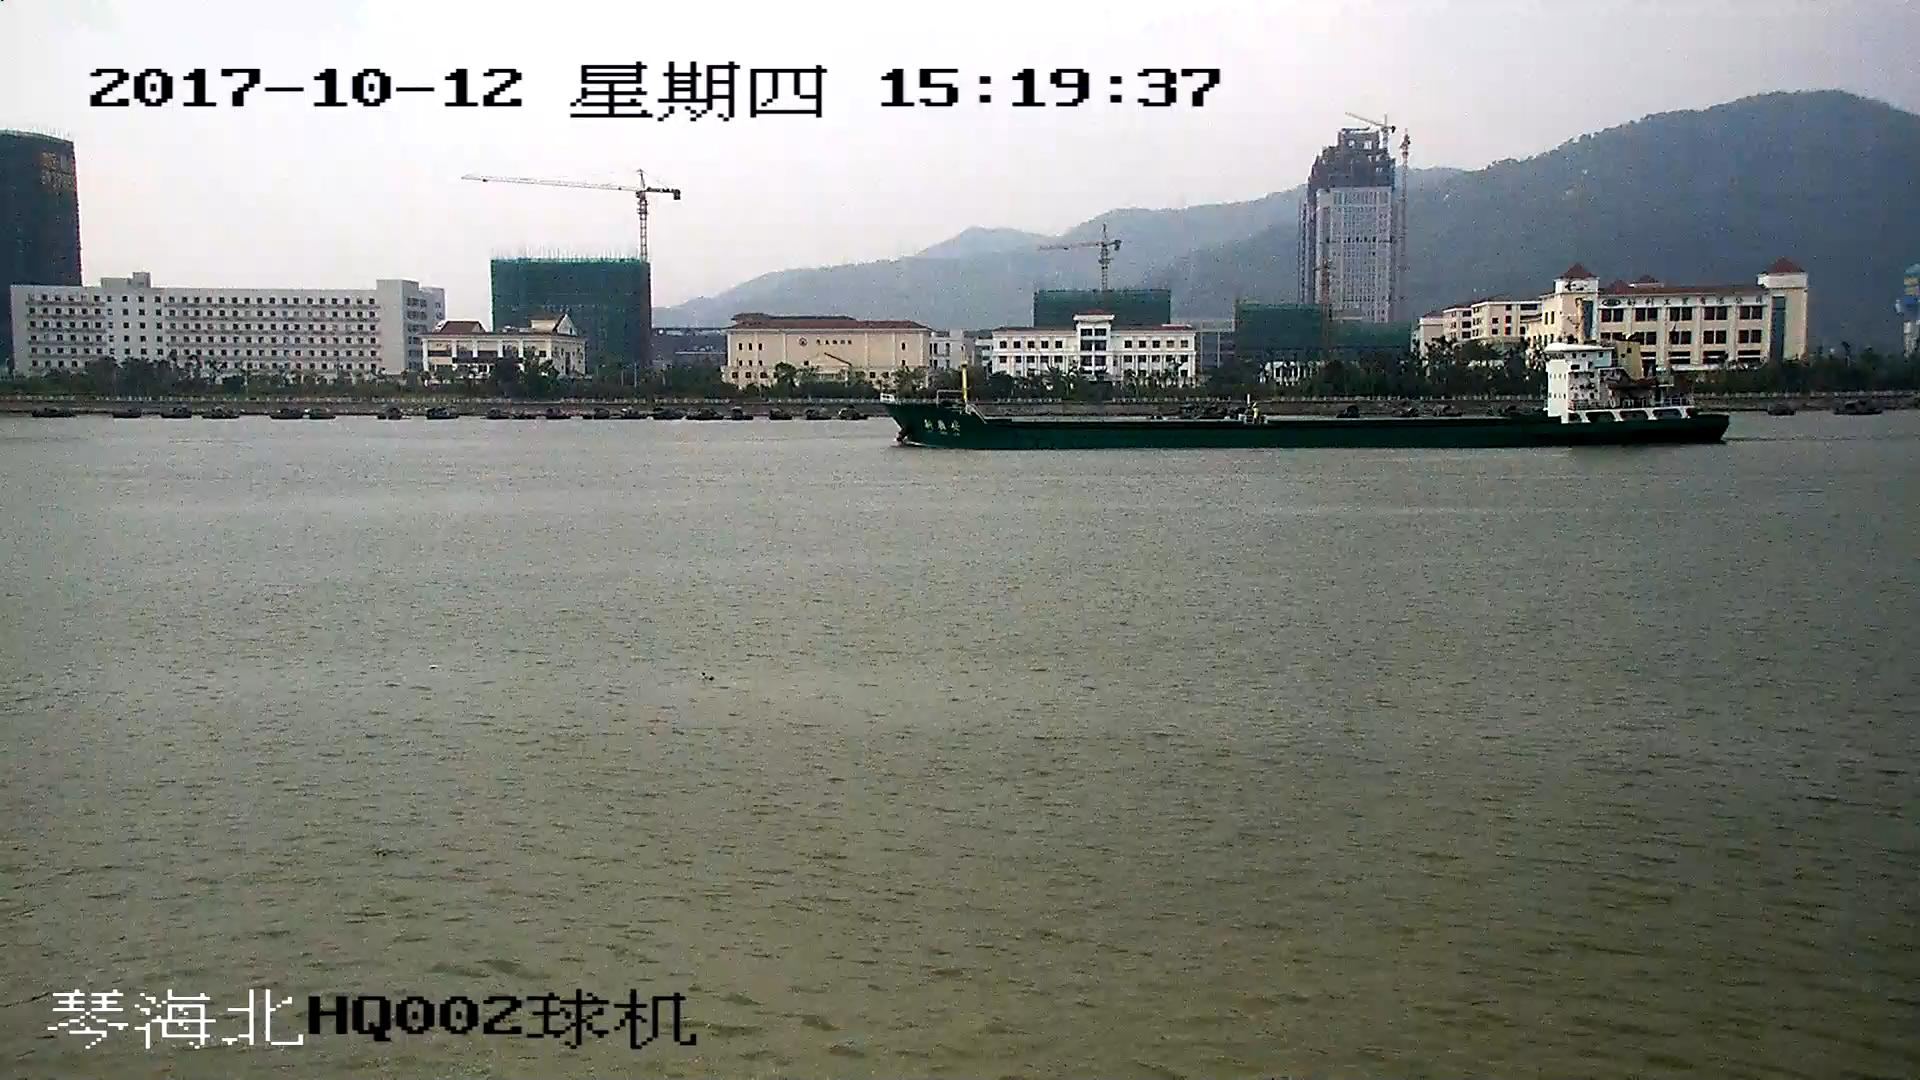general cargo ship: (884, 302, 1730, 447)
